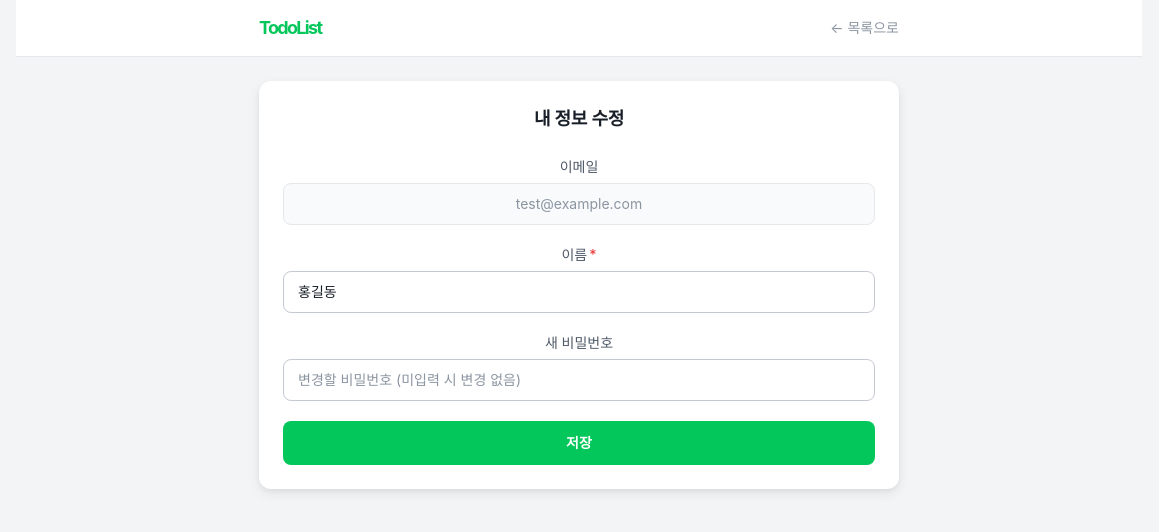
Test: ProfilePage › 이름 빈 채로 제출 시 에러 메시지를 표시한다
Clear the field showing "홍길동" at (579,292), box [283, 271, 875, 313]
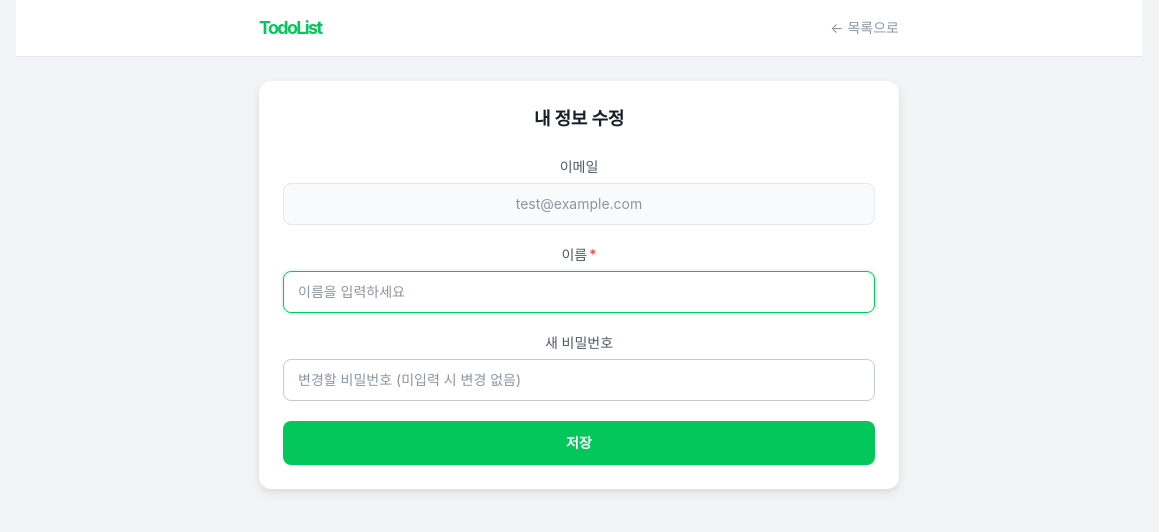
Click the button "저장" at (579,443), box [283, 421, 875, 465]
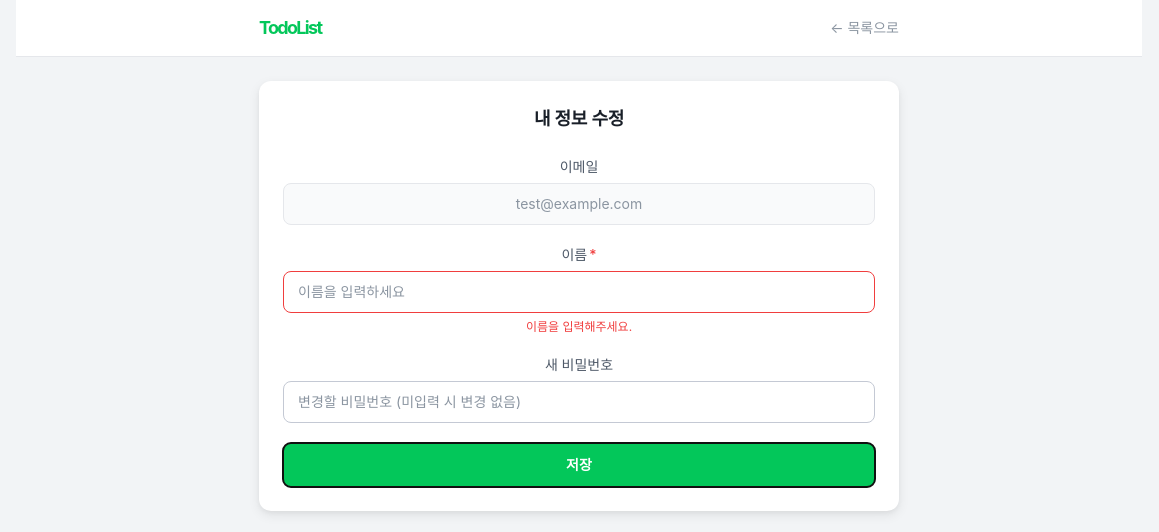
Result: the text "이름을 입력해주세요." is shown at [526, 319, 632, 334]
